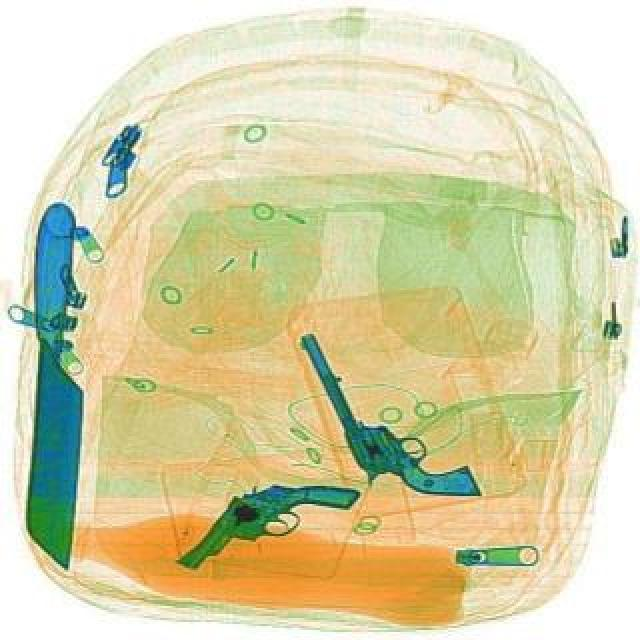gun: (290, 298, 482, 534), (160, 454, 364, 574)
knife: (2, 202, 104, 570)
